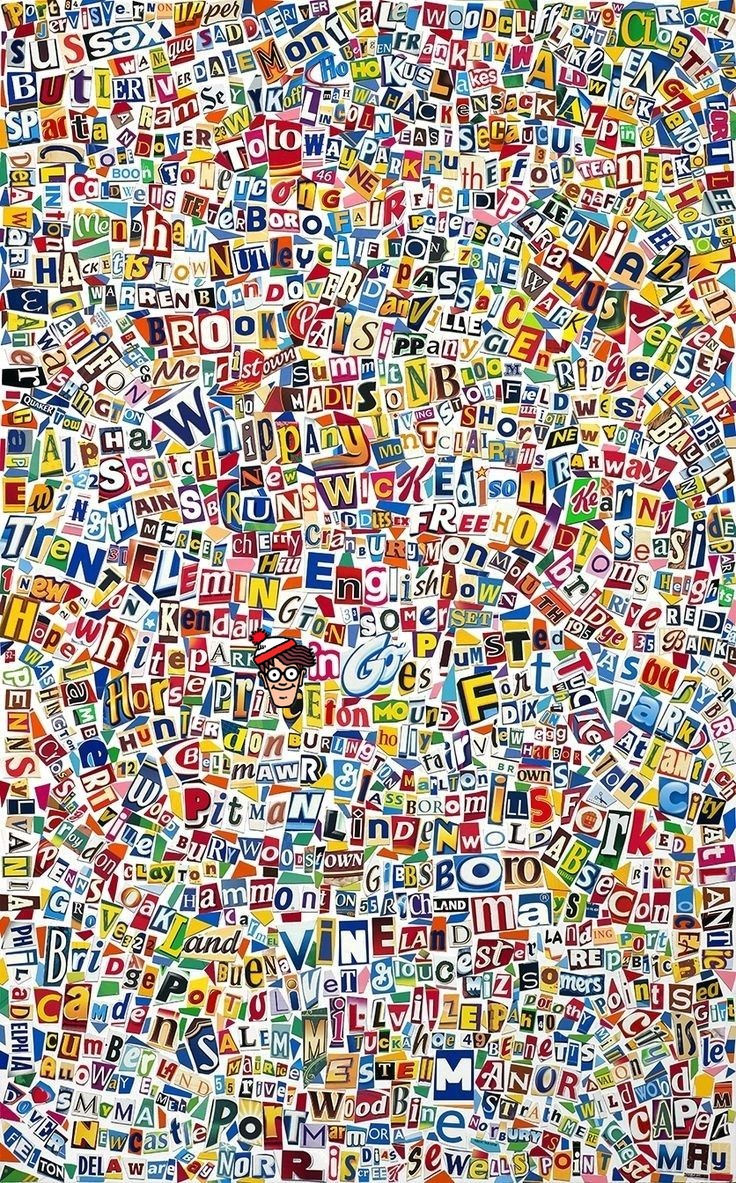waldo: (249, 627, 317, 708)
